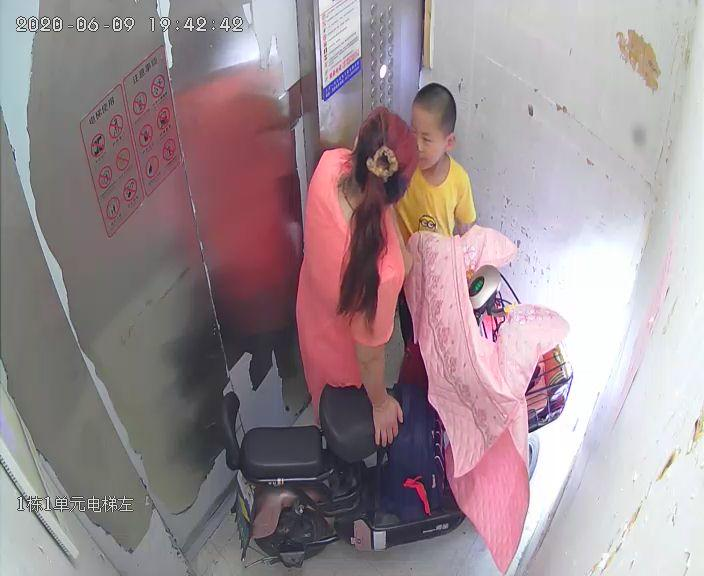Electric-bicycle: (226, 222, 568, 556)
